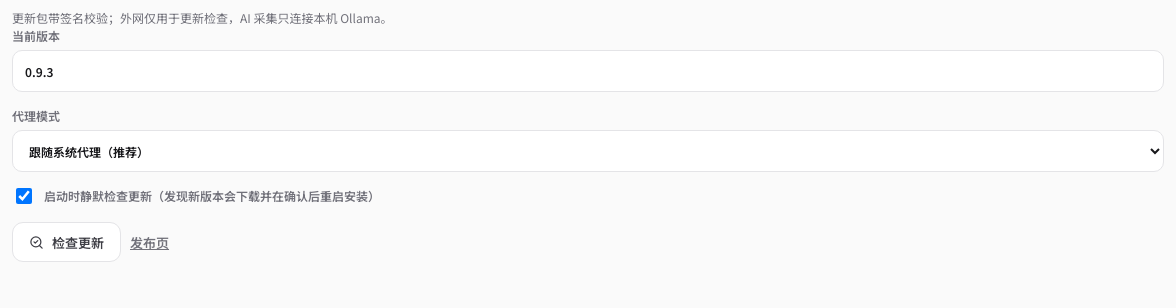
Scenario: 桌面端手动检查：已是最新时给出当前版本反馈
The width and height of the screenshot is (1176, 308).
Click the button "检查更新". click: point(66, 242)
box: [12,222,121,262]
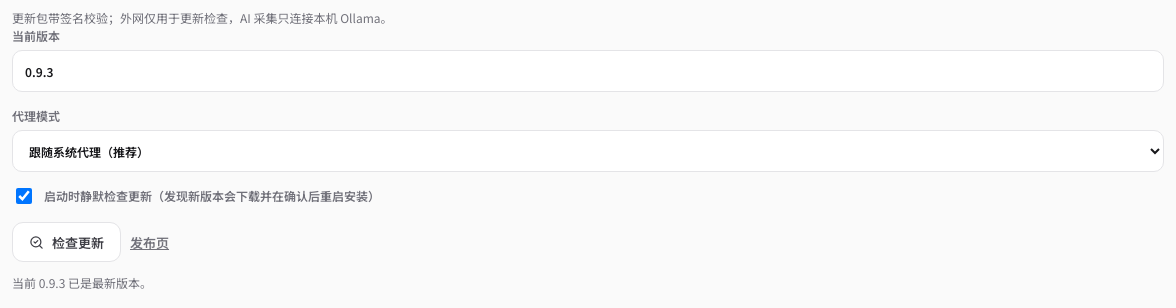
Now the text "0.9.3 已是最新" is shown, box [12,274,152,291]
